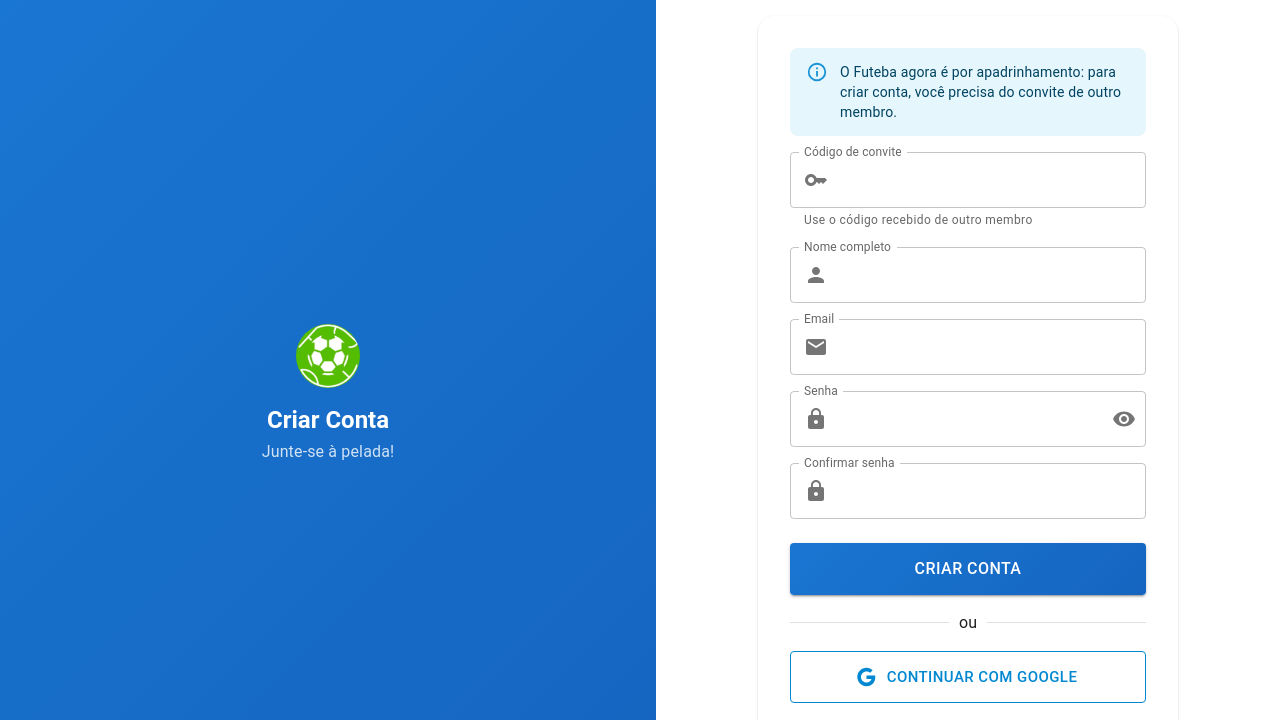
it: RegisterScreen › mostra erro para nome curto (< 2 caracteres)
This screenshot has width=1280, height=720.
Step 1. Type "ABC123" into the field labelled "Código de convite" → (991, 180), box [836,152,1146,208]
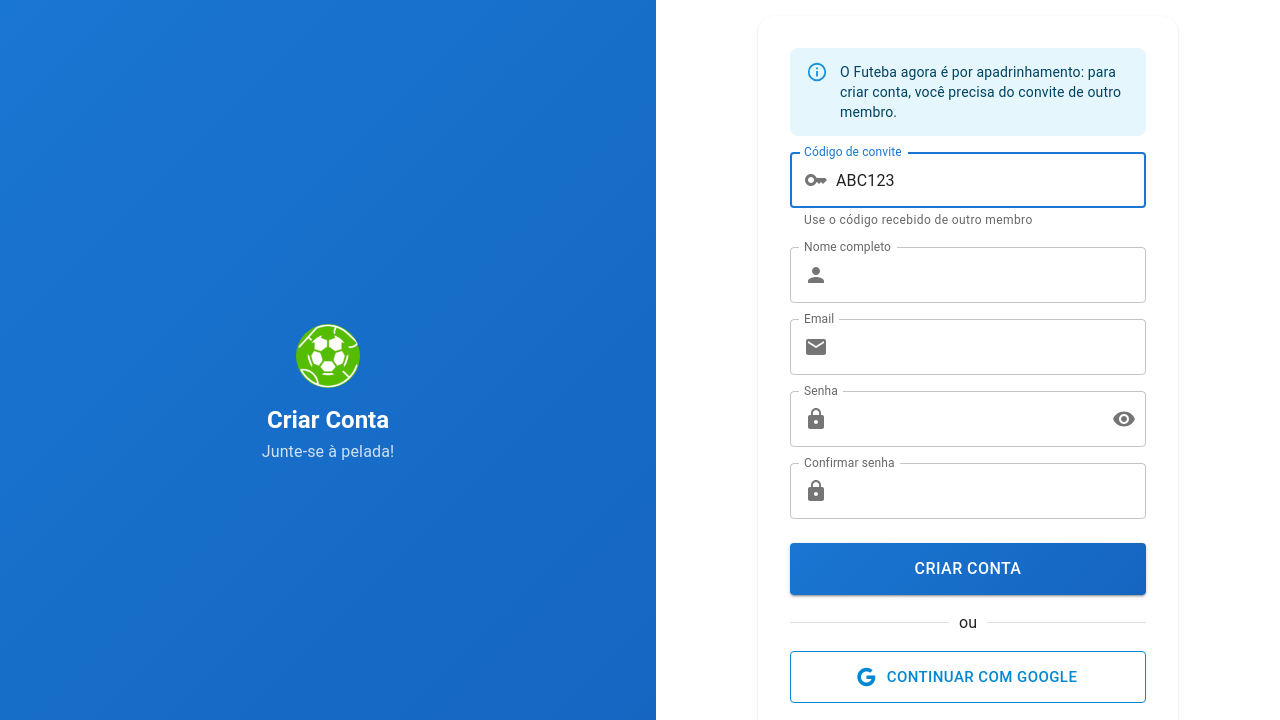
Step 2. Type "A" into the field labelled "Nome completo" → (991, 275), box [836,247,1146,303]
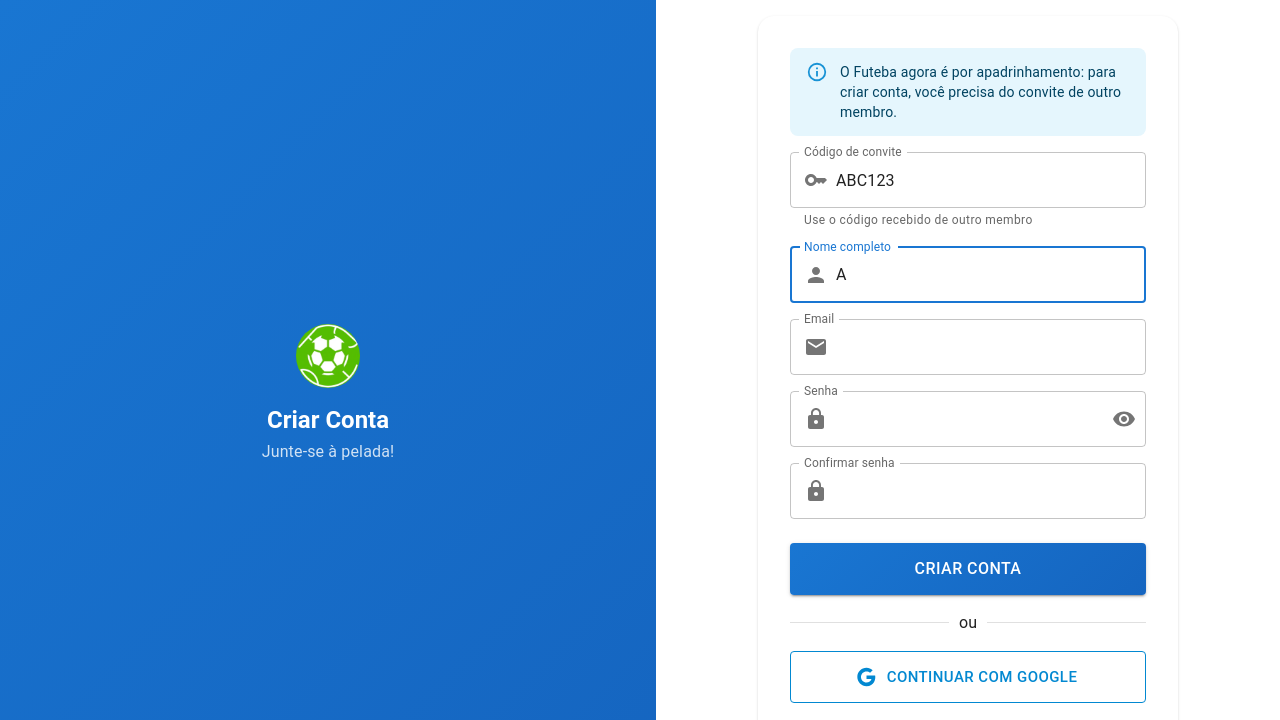
Step 3. Click the button "Criar conta" → click(968, 569), box [790,543,1146,595]
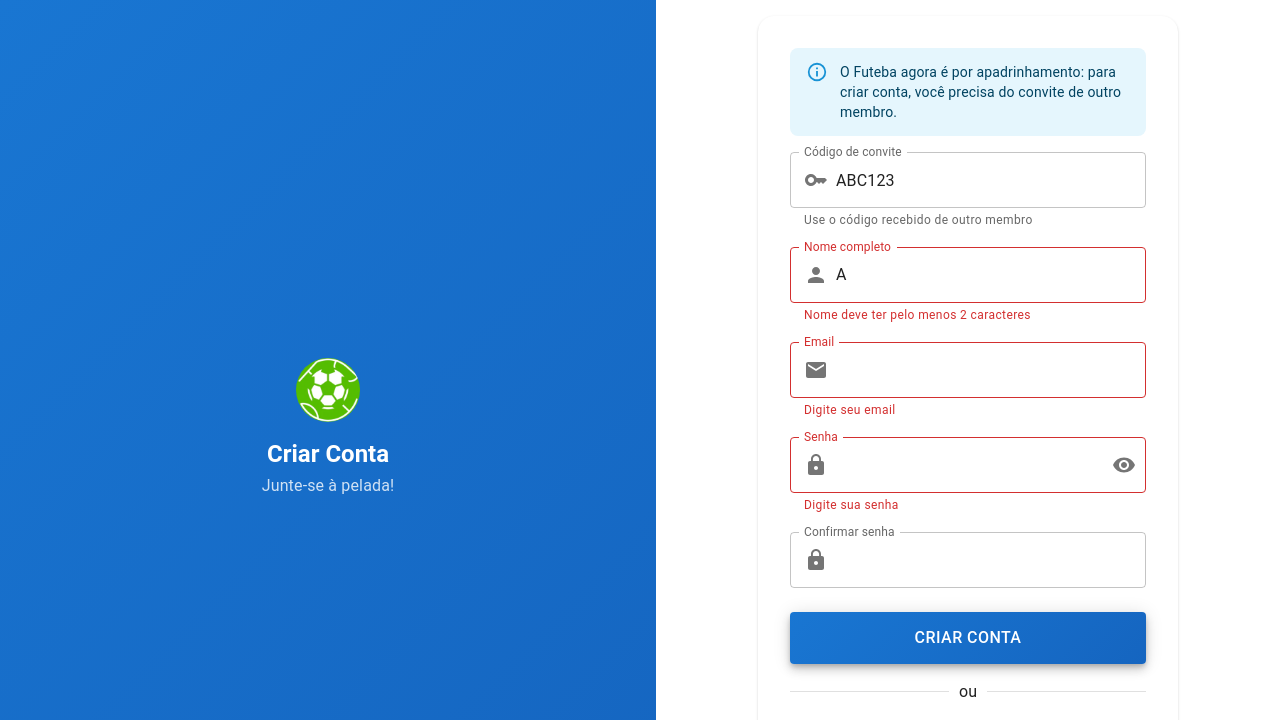
Result: the text "Nome deve ter pelo menos 2 caracteres" is shown at [804,308,1031,322]
